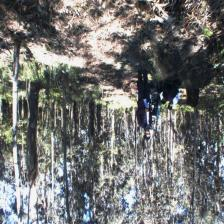trunktrack_idkeyframe: (26, 83, 38, 174), (12, 43, 19, 148), (61, 87, 66, 152), (193, 108, 197, 157)
